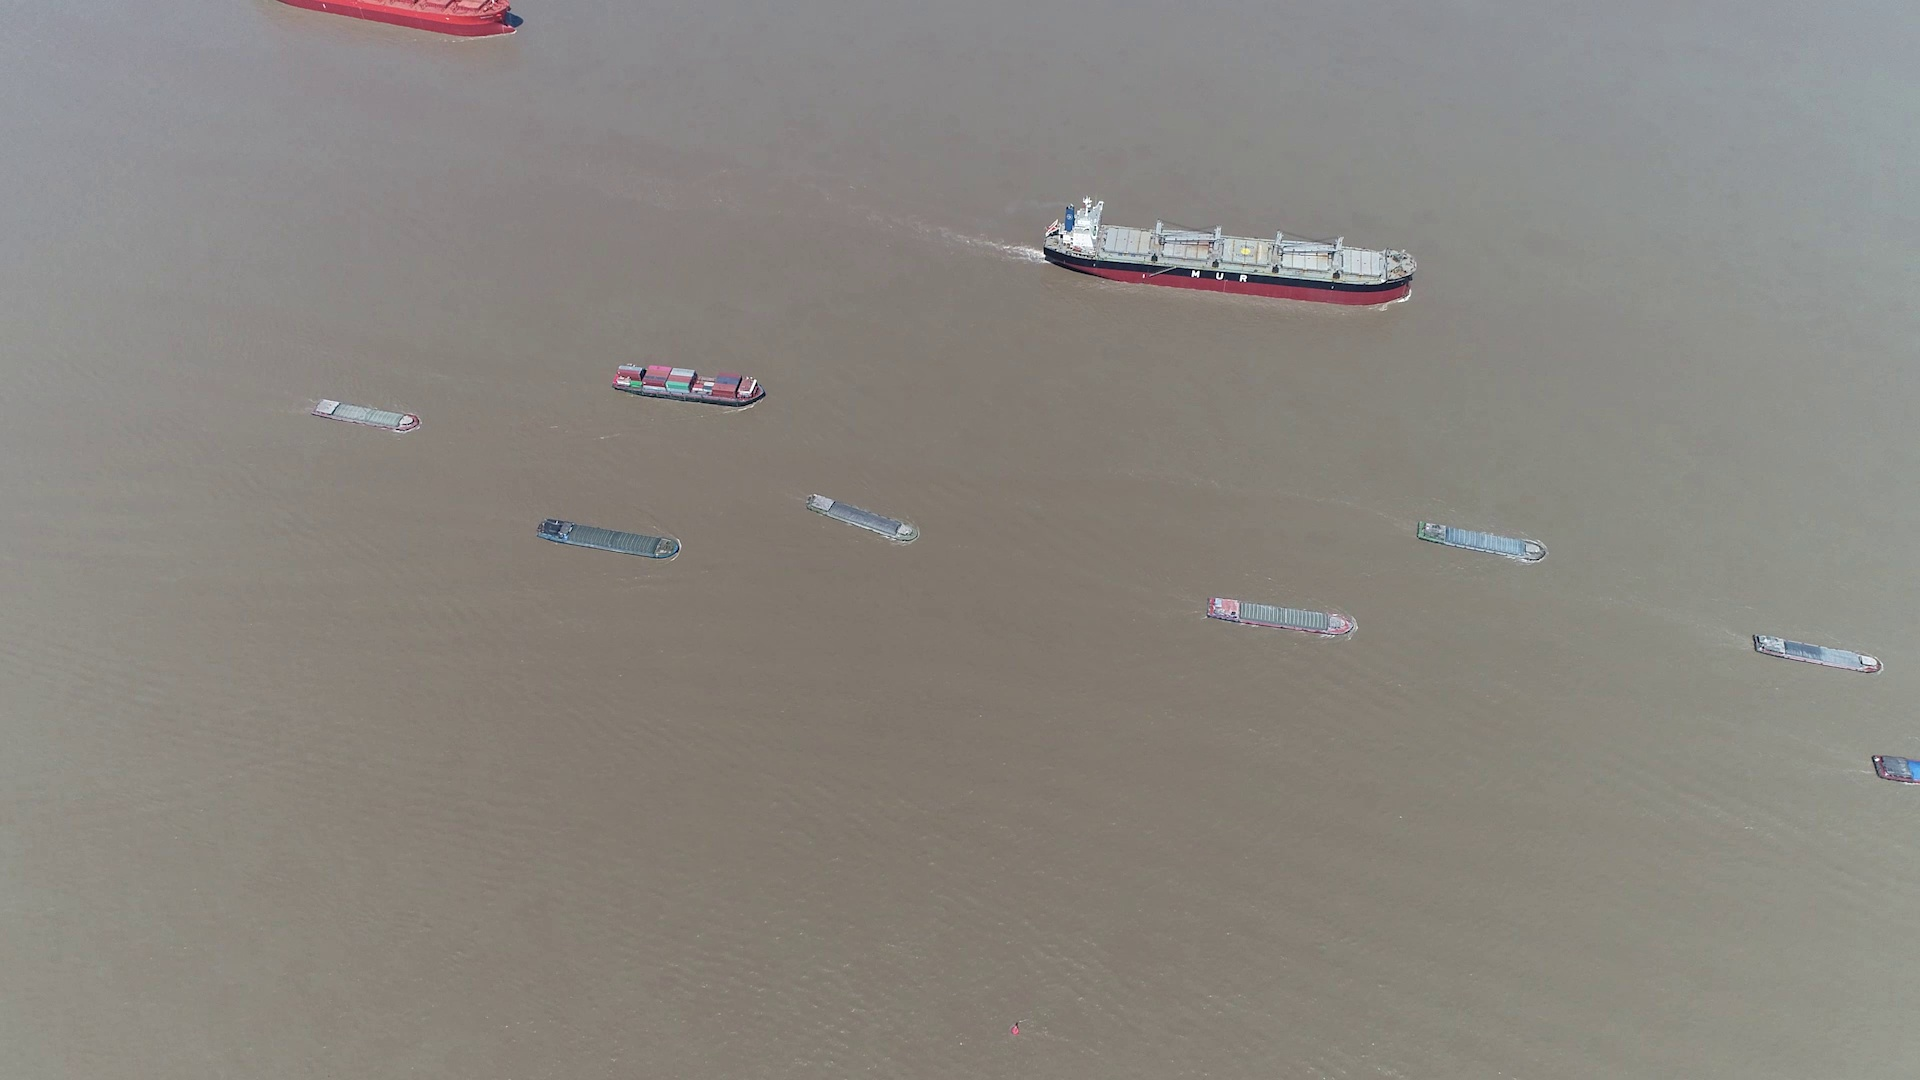ship: (1043, 199, 1416, 303), (280, 0, 520, 40), (612, 361, 767, 407), (534, 518, 682, 560), (1207, 596, 1356, 636), (808, 495, 919, 545), (1415, 520, 1545, 562), (1751, 634, 1884, 675), (310, 397, 421, 431), (1873, 756, 1919, 785)
